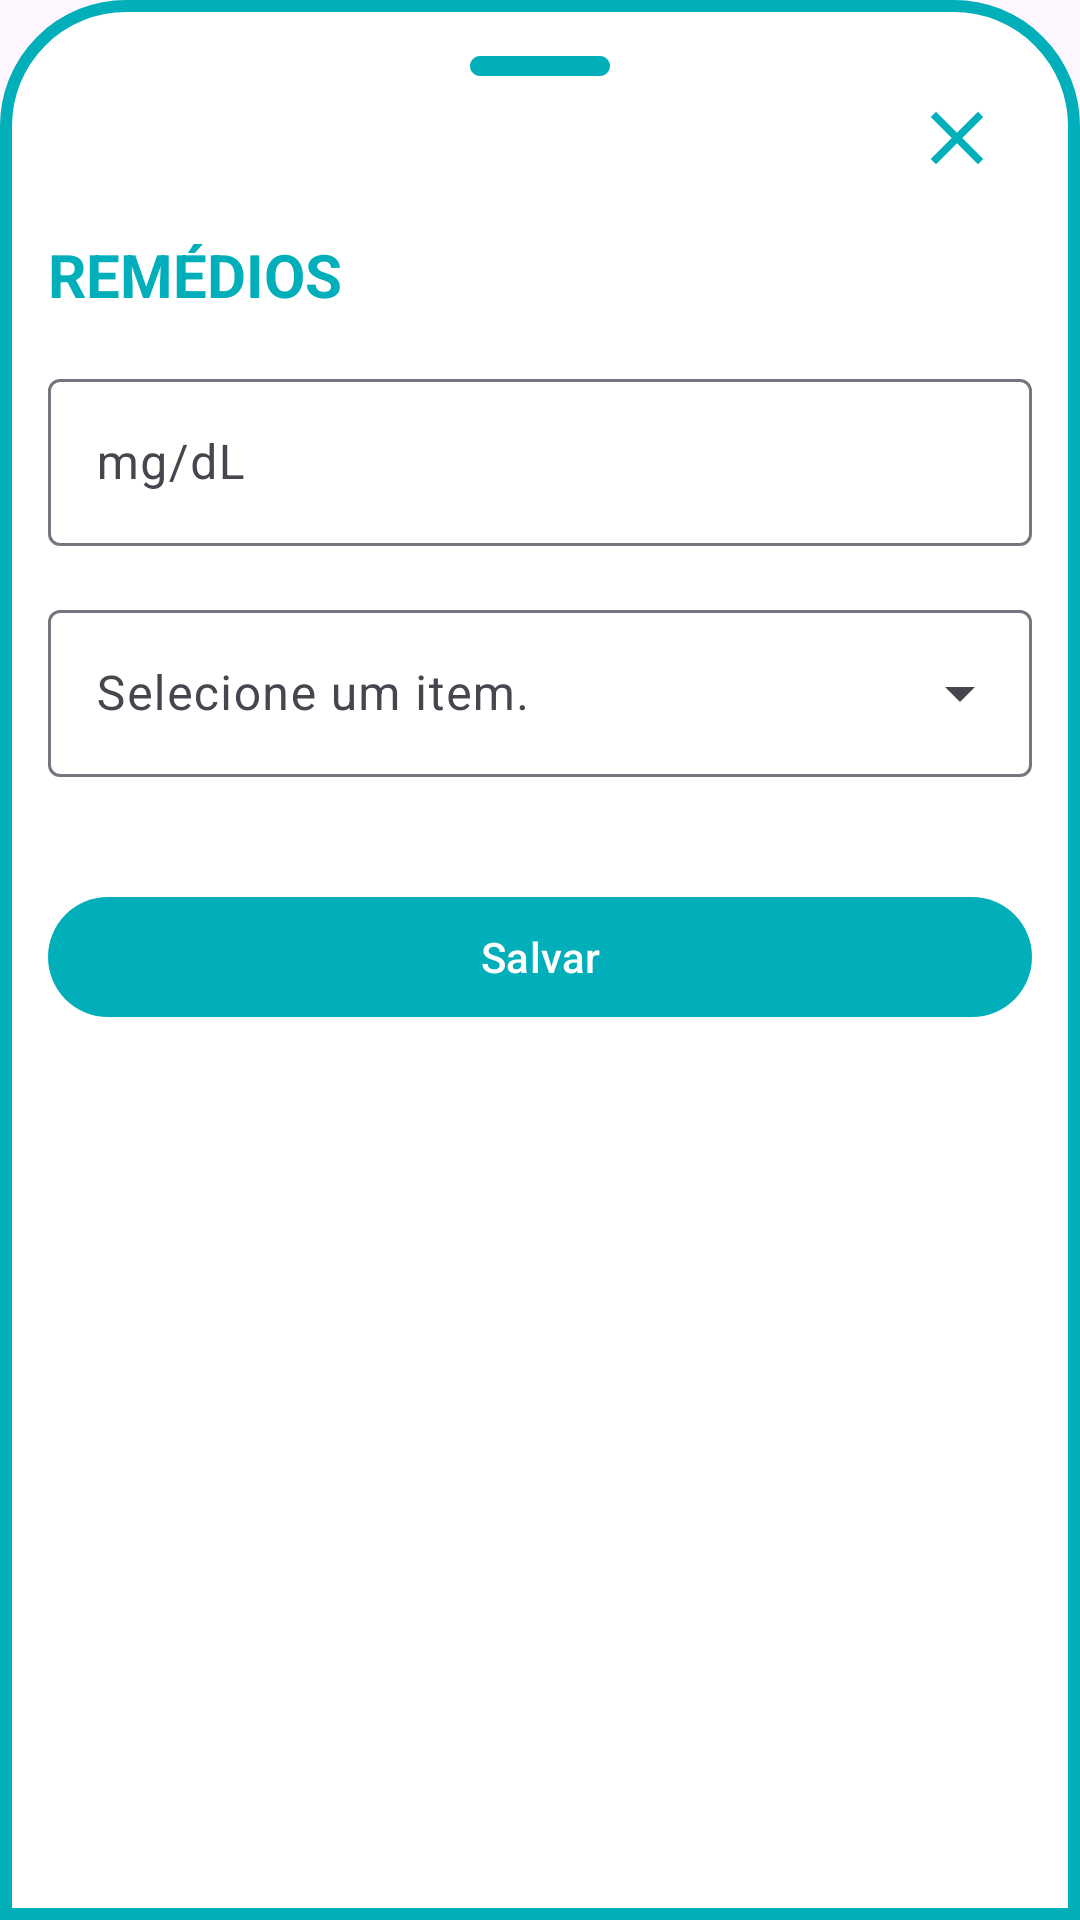

Icons on this 1080px×1920px Android screen, each with its box as bbox=[x1, y1, x2, y2]:
close: bbox=[931, 112, 983, 164]
